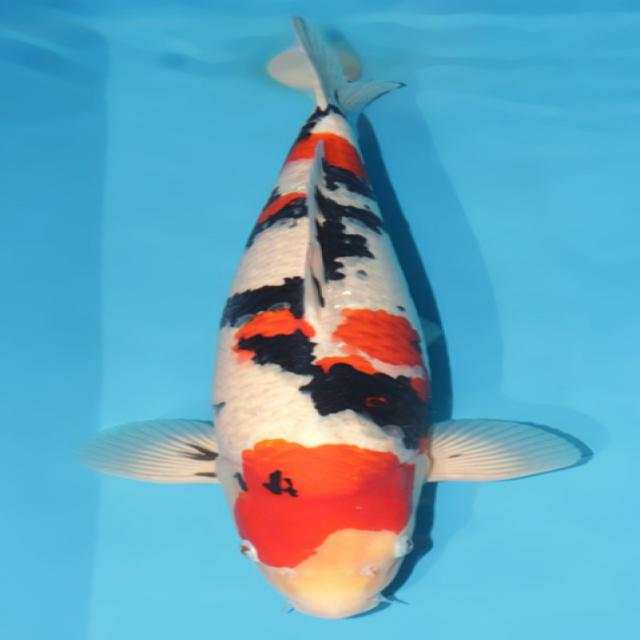Sanke: (77, 14, 592, 620)
